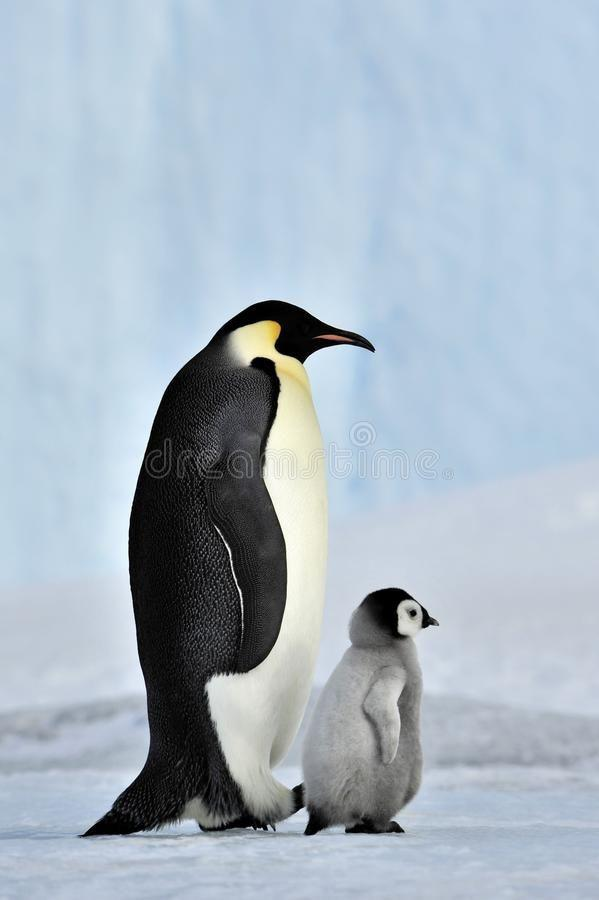emporer: (75, 282, 415, 863)
